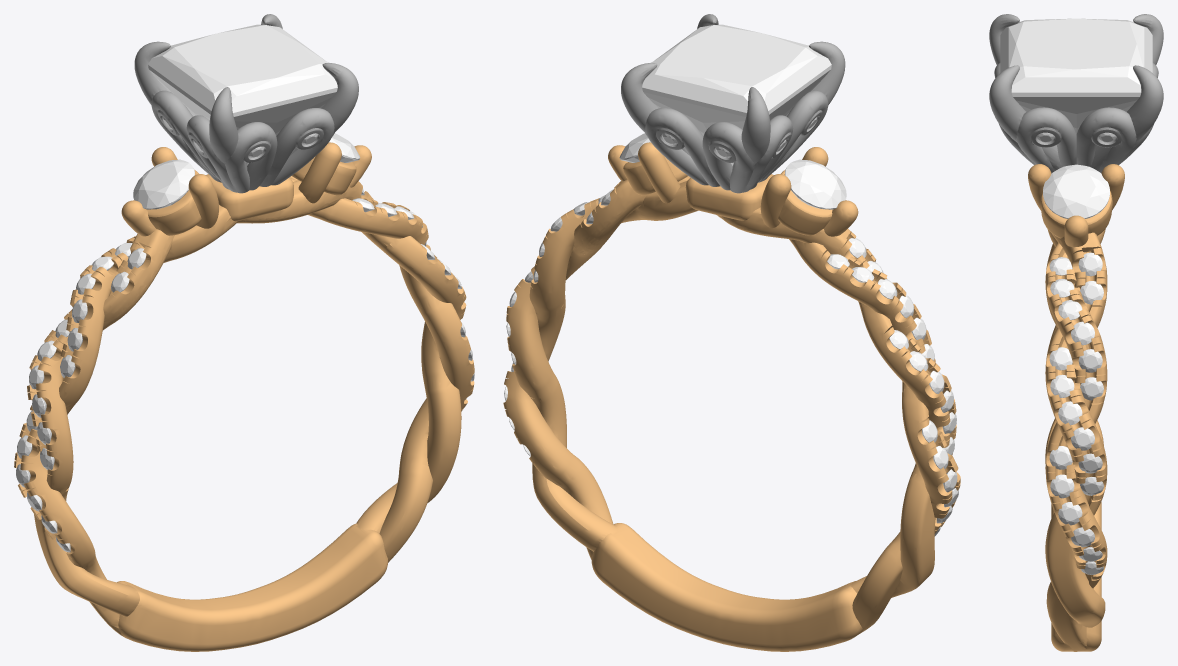
The picture shows the model from 3 angles, left to right: view 1: azimuth 30°, elevation 25°; view 2: azimuth 150°, elevation 25°; view 3: azimuth 270°, elevation 25°; orthographic projection.
Parts seen in each view (by area): view 1: /392643Masina DiamondsB-.3dm, 3Design CAD STL : part0 (×2); view 2: /392643Masina DiamondsB-.3dm, 3Design CAD STL : part0 (×2); view 3: /392643Masina DiamondsB-.3dm, 3Design CAD STL : part0 (×20).
Part boxes in pixels (<box>): /392643Masina DiamondsB-.3dm: <box>14,14,474,651</box>; 3Design CAD STL : part0 (×2): <box>133,24,337,209</box>; /392643Masina DiamondsB-.3dm: <box>503,14,960,651</box>; 3Design CAD STL : part0 (×2): <box>642,24,846,209</box>; /392643Masina DiamondsB-.3dm: <box>989,14,1163,651</box>; 3Design CAD STL : part0 (×20): <box>1000,18,1152,547</box>.
Bounding box in the file's own units: 2.44 × 3.06 × 0.8279.
